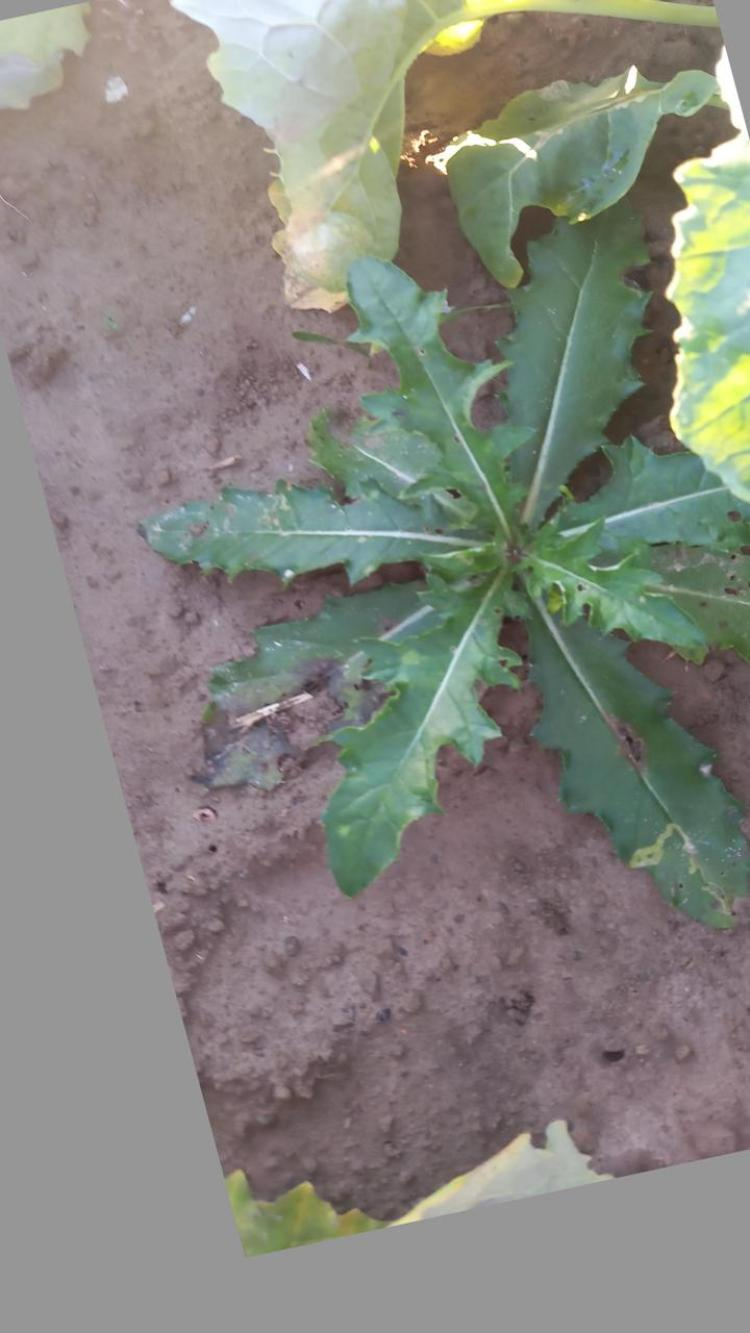bodyak: (135, 204, 750, 942)
